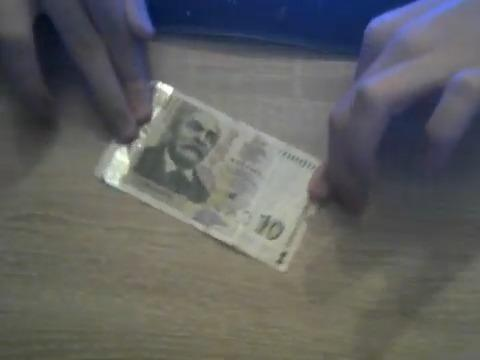10leva: (94, 81, 319, 274)
